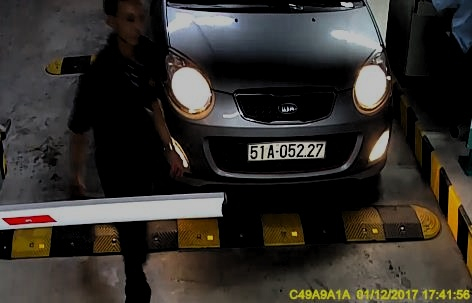plate: (245, 139, 328, 163)
